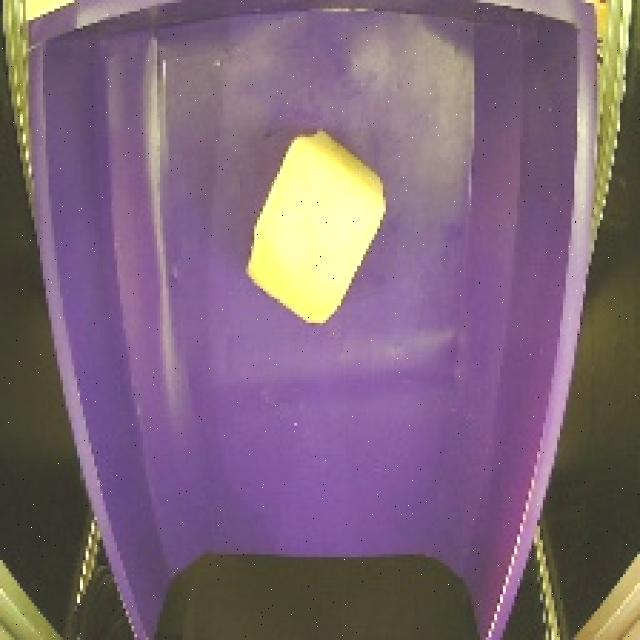potato: (240, 123, 394, 336)
